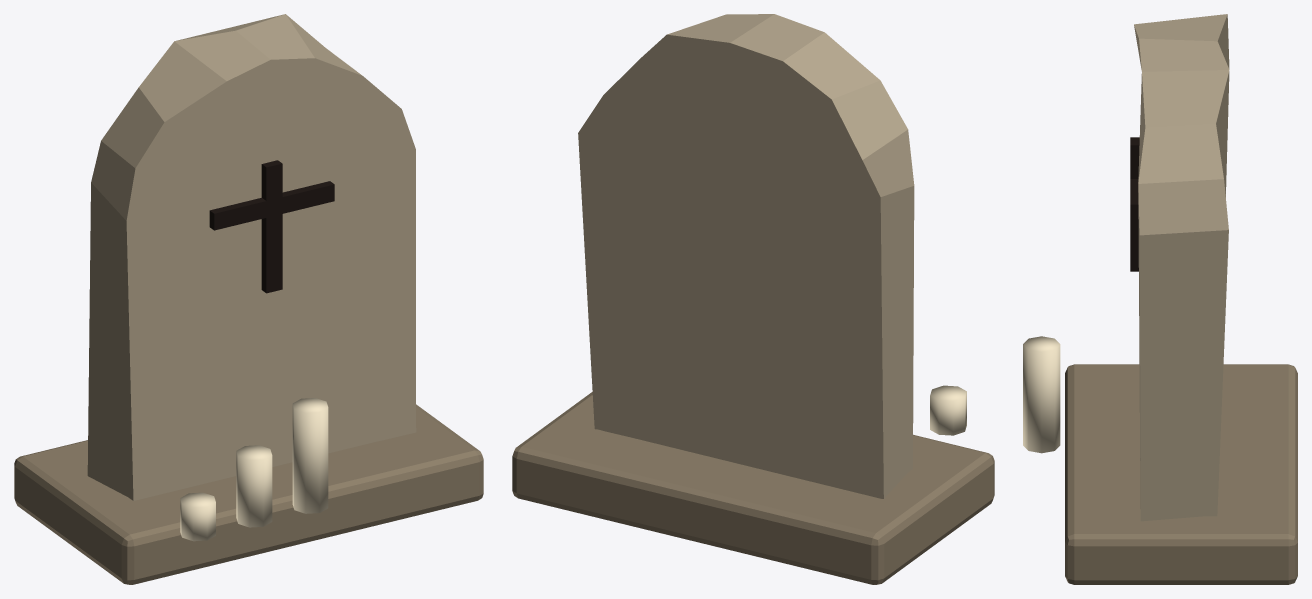
Rendered from gravestone.glb.
3 views of the same model, side by side, from view 1: azimuth 30°, elevation 25°; view 2: azimuth 150°, elevation 25°; view 3: azimuth 270°, elevation 25° (orthographic). The views are drawn at different scales.
Parts seen in each view (by area): view 1: gravestone; view 2: gravestone; view 3: gravestone.
Part boxes in pixels (x1=…): gravestone: x1=14, y1=14, x2=483, y2=584; gravestone: x1=512, y1=14, x2=994, y2=584; gravestone: x1=1023, y1=14, x2=1297, y2=584.
Bounding box in the file's own units: 0.9 × 1.1 × 0.59.
